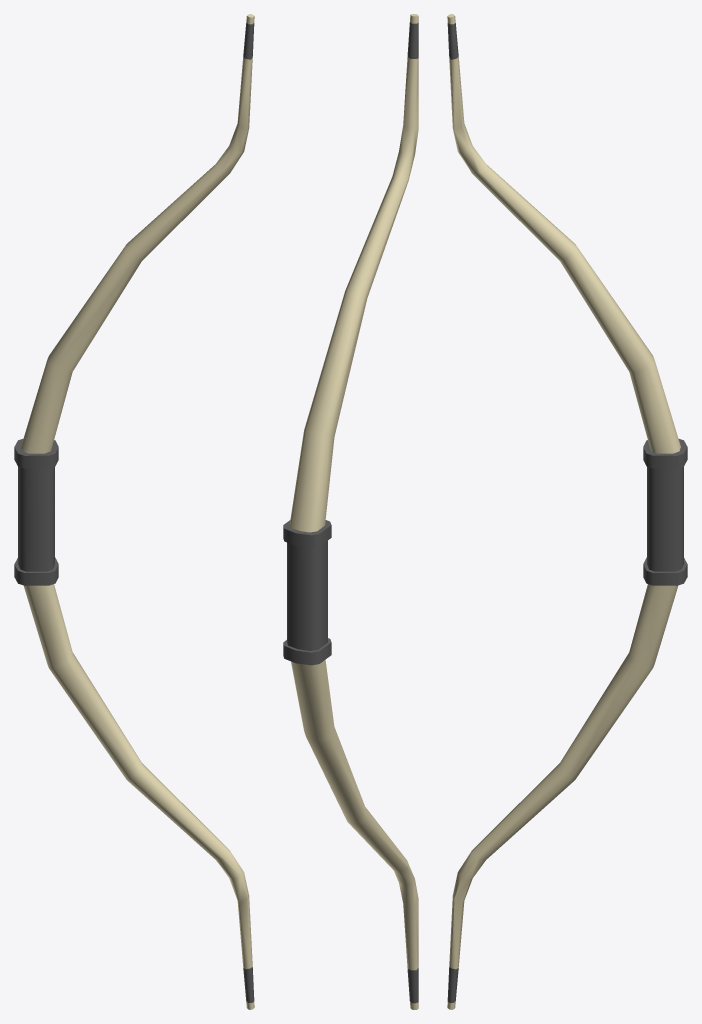
File: Bow.fbx
3 renders of one model, left to right at view 1: azimuth 90°, elevation 25°; view 2: azimuth 150°, elevation 25°; view 3: azimuth 270°, elevation 25°, orthographic.
Parts seen in each view (by area): view 1: Bow; view 2: Bow; view 3: Bow.
Boxes of the visible parts, x1=… form: Bow: x1=14, y1=14, x2=254, y2=1009; Bow: x1=283, y1=14, x2=418, y2=1009; Bow: x1=447, y1=14, x2=687, y2=1009.
Bounding box in the file's own units: 5.1 × 29.27 × 133.
